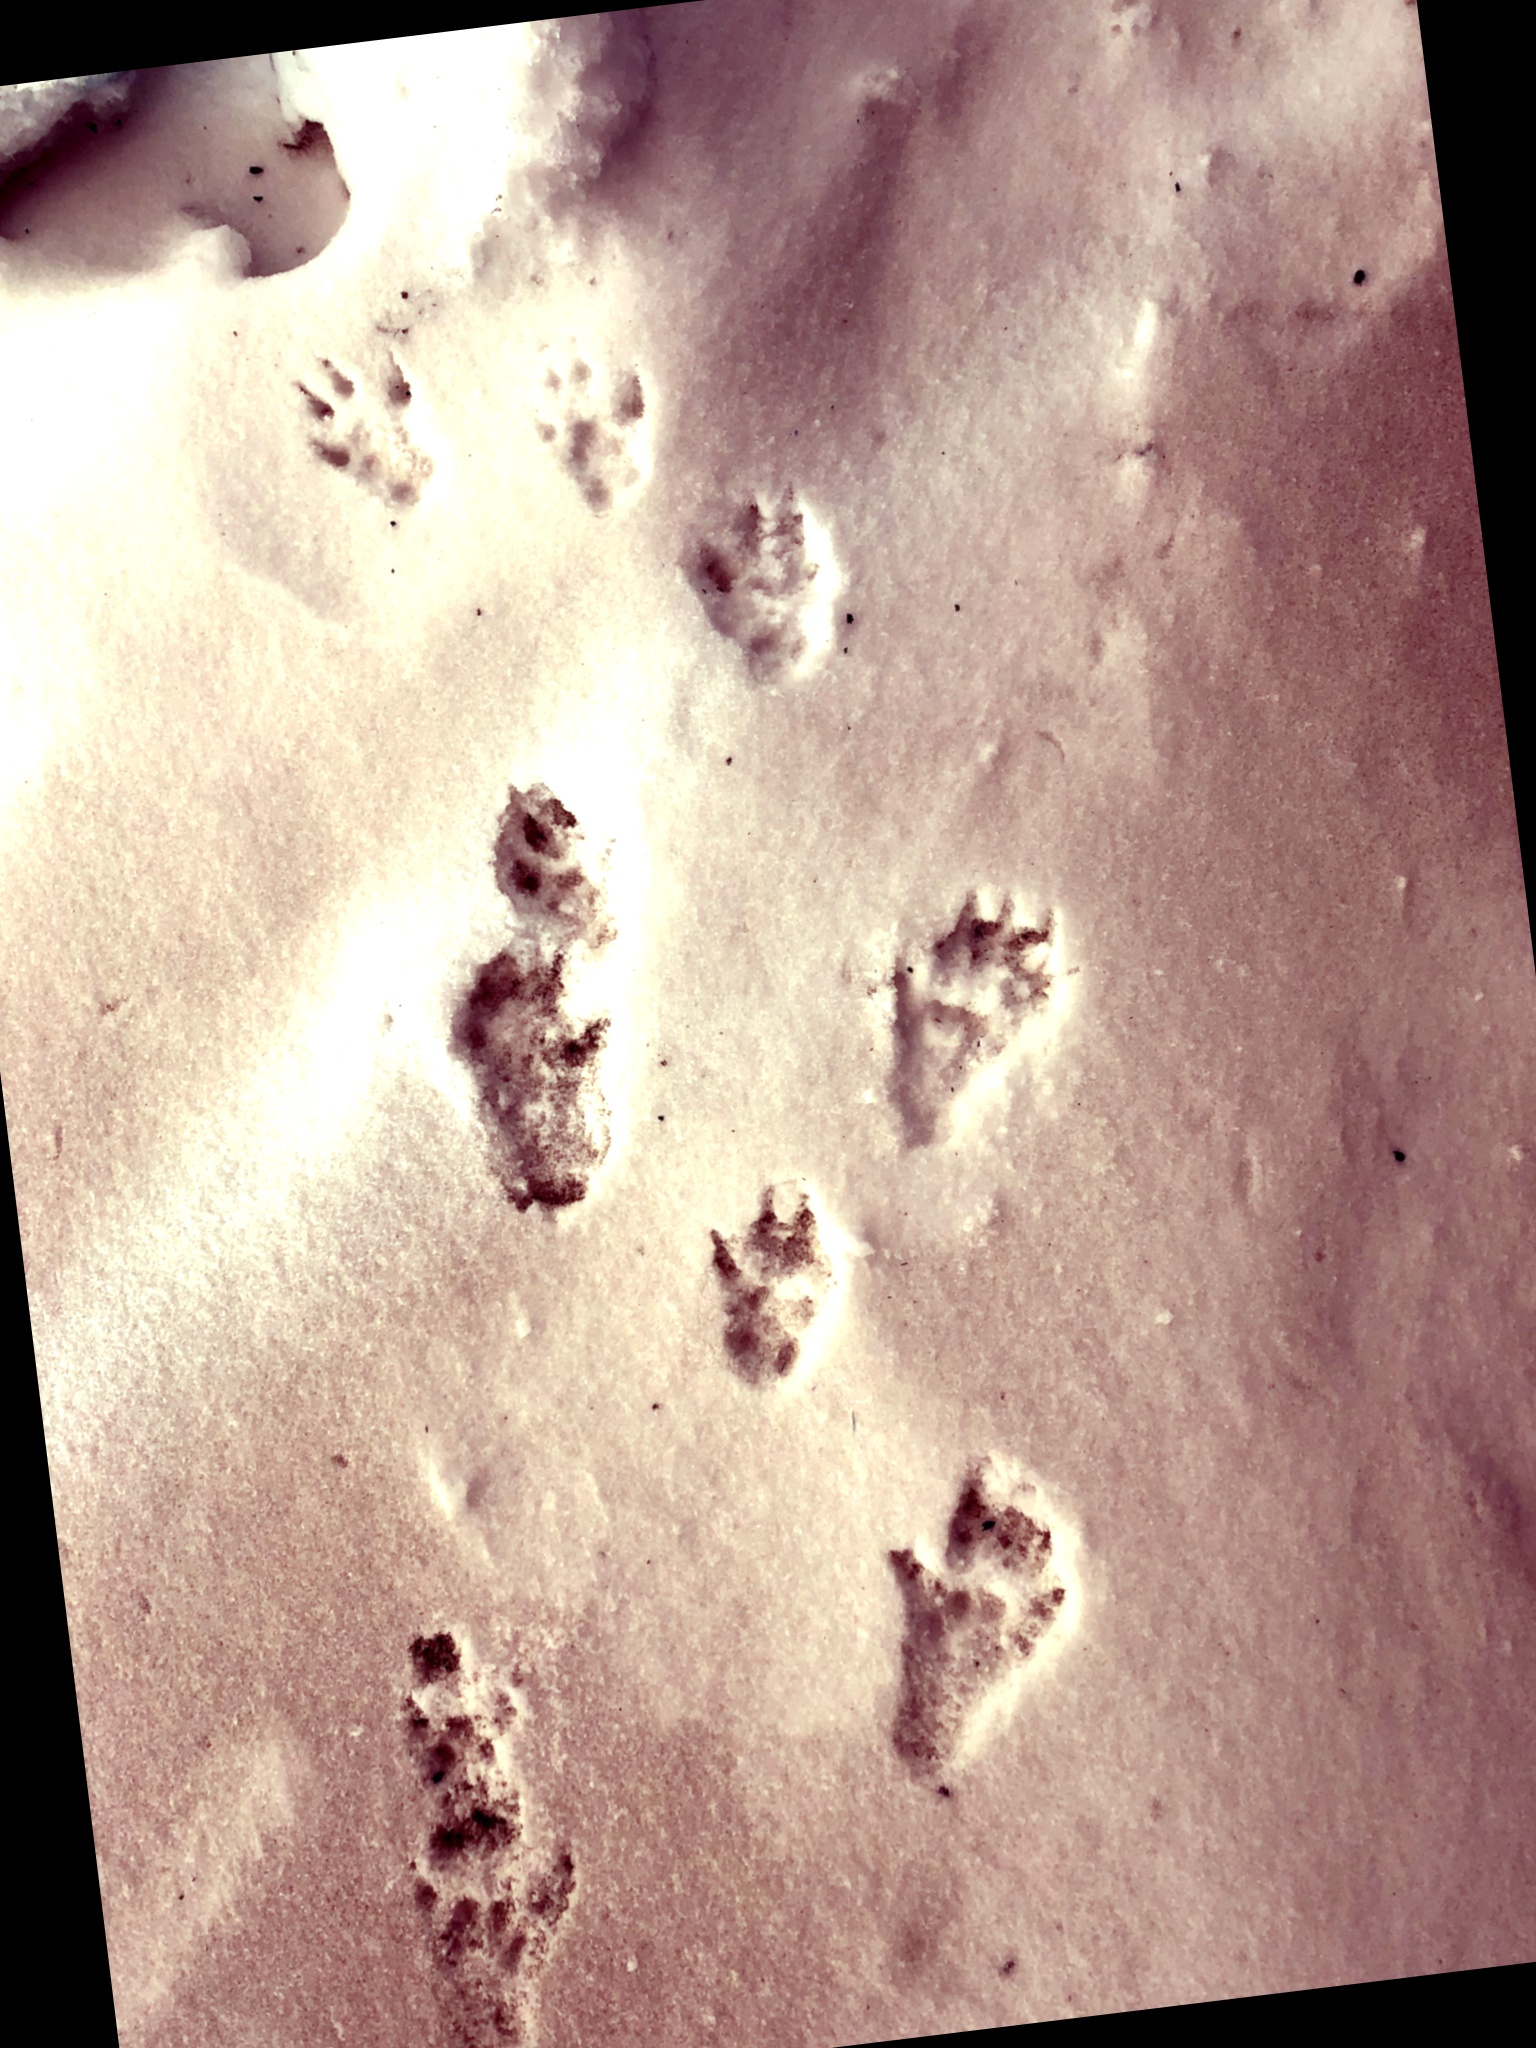ecureuil: (384, 740, 671, 1276), (313, 1580, 623, 2048), (833, 1406, 1155, 1819), (829, 829, 1128, 1174), (248, 318, 490, 558), (660, 461, 878, 714), (678, 1150, 878, 1414), (489, 300, 682, 547)
